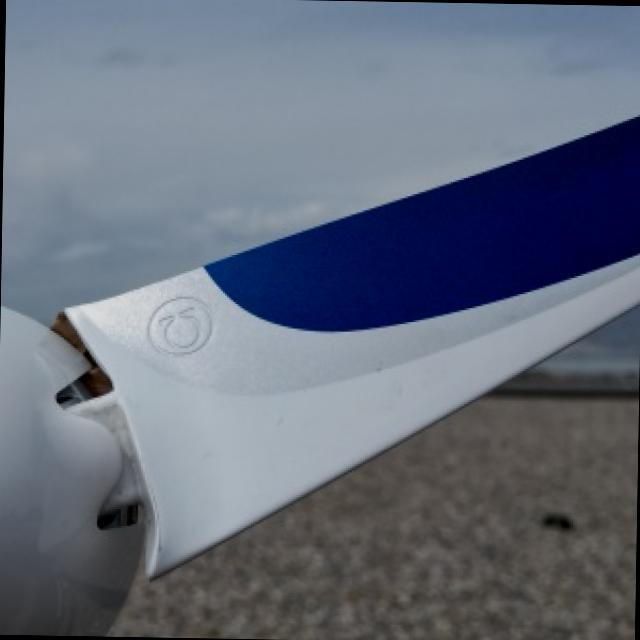healthy: (0, 74, 640, 634), (110, 304, 638, 640)
